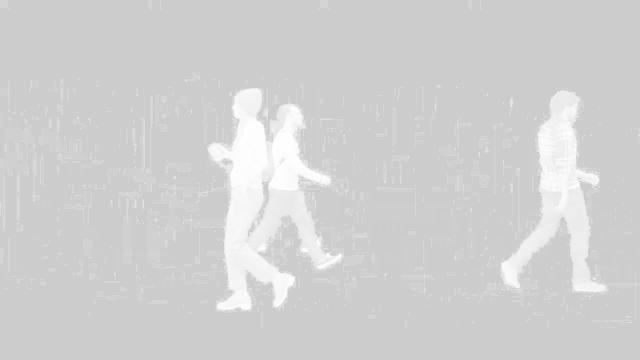berjalan: (494, 89, 608, 303), (195, 89, 297, 311), (244, 99, 350, 271)
